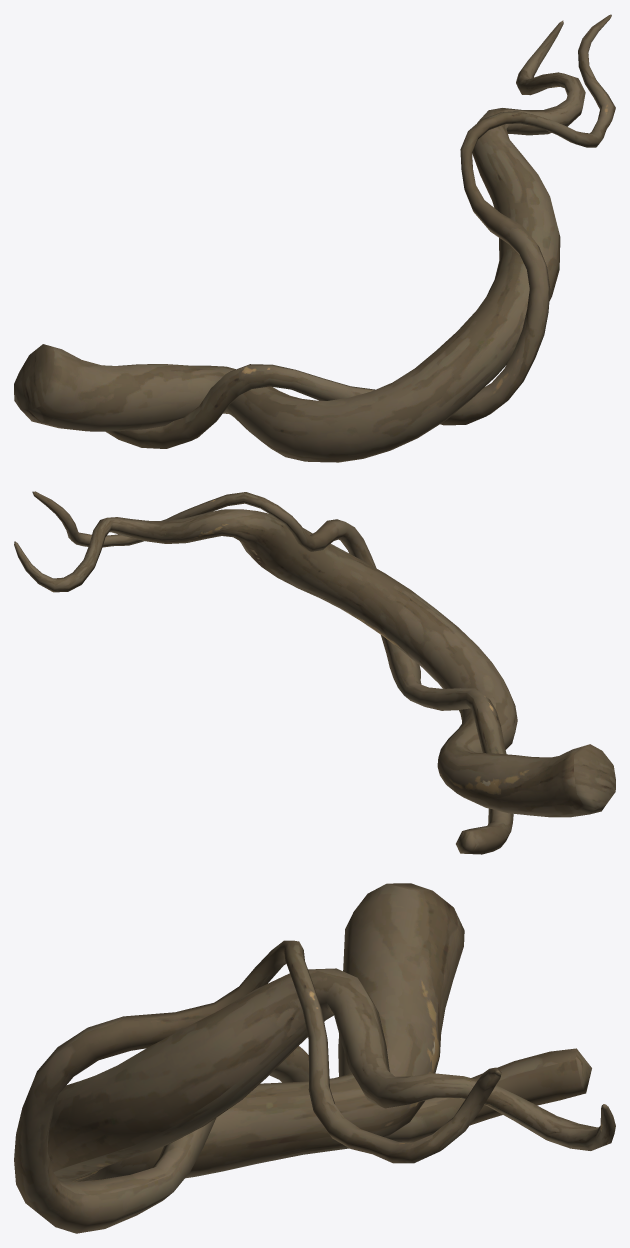
File: Area_Xm_Stone_JQR_Full_Tm_M_03.fbx
3 renders of one model, top to bottom at view 1: azimuth 30°, elevation 25°; view 2: azimuth 150°, elevation 25°; view 3: azimuth 270°, elevation 25°, orthographic. The views are drawn at different scales.
Visible parts, largest first — view 1: Area_Xm_Stone_JQR_Full_Tm_M_03_Lod0; view 2: Area_Xm_Stone_JQR_Full_Tm_M_03_Lod0; view 3: Area_Xm_Stone_JQR_Full_Tm_M_03_Lod0.
Part boxes in pixels (left/top/right/bottom): Area_Xm_Stone_JQR_Full_Tm_M_03_Lod0: left=14, top=14, right=615, bottom=462; Area_Xm_Stone_JQR_Full_Tm_M_03_Lod0: left=14, top=491, right=615, bottom=854; Area_Xm_Stone_JQR_Full_Tm_M_03_Lod0: left=14, top=883, right=615, bottom=1233.
Bounding box in the file's own units: 28.94 × 12.84 × 15.8.
Materials: 1 (1 with a texture image).
